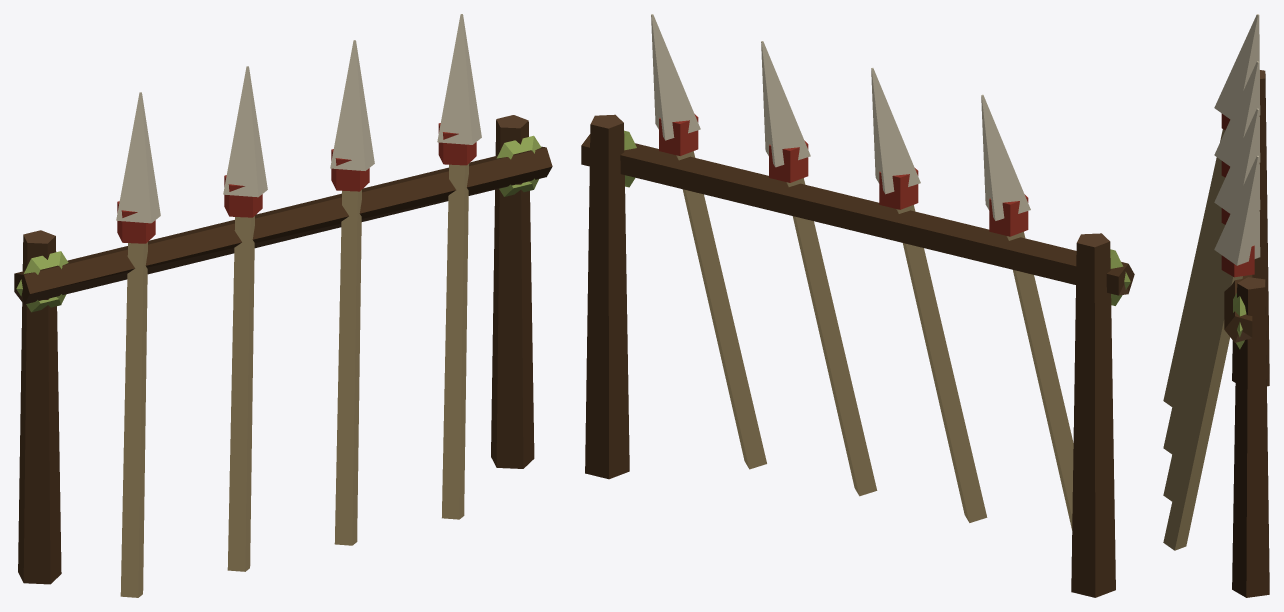
Rendered from nest-spear-rack.glb.
3 renders of one model, left to right at view 1: azimuth 30°, elevation 25°; view 2: azimuth 150°, elevation 25°; view 3: azimuth 270°, elevation 25°, orthographic. The views are drawn at different scales.
Size of the model in its own units: 2.14 by 1.76 by 0.409.
